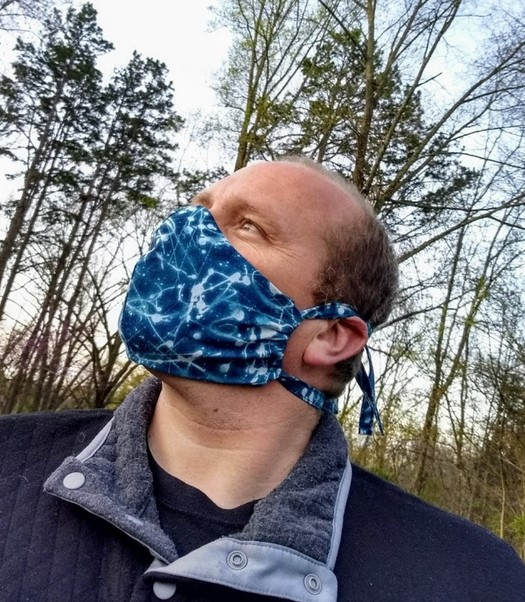face_with_mask: (117, 152, 396, 407)
